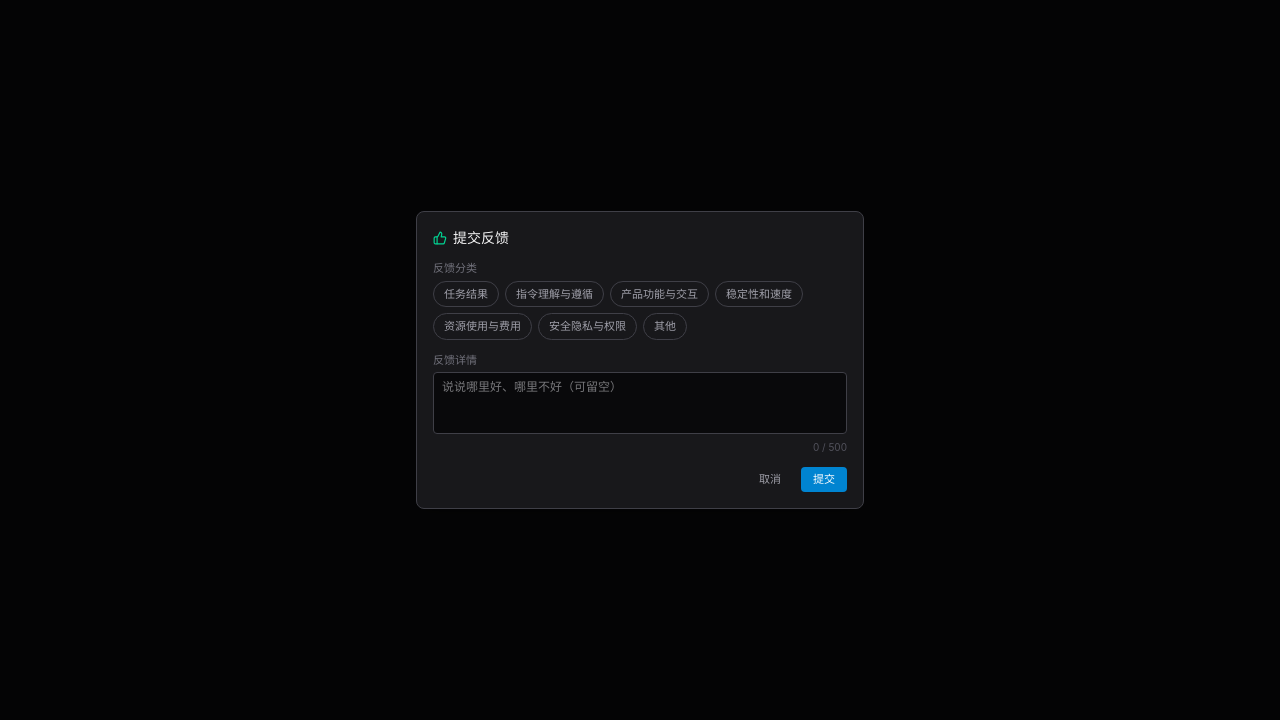
Test: MessageFeedbackDialog 提交 › 主进程说"说明太长"时映射成 noteTooLong 文案
This screenshot has width=1280, height=720.
Click the button "提交" at x=824, y=480, box x1=801 y1=467 x2=847 y2=492
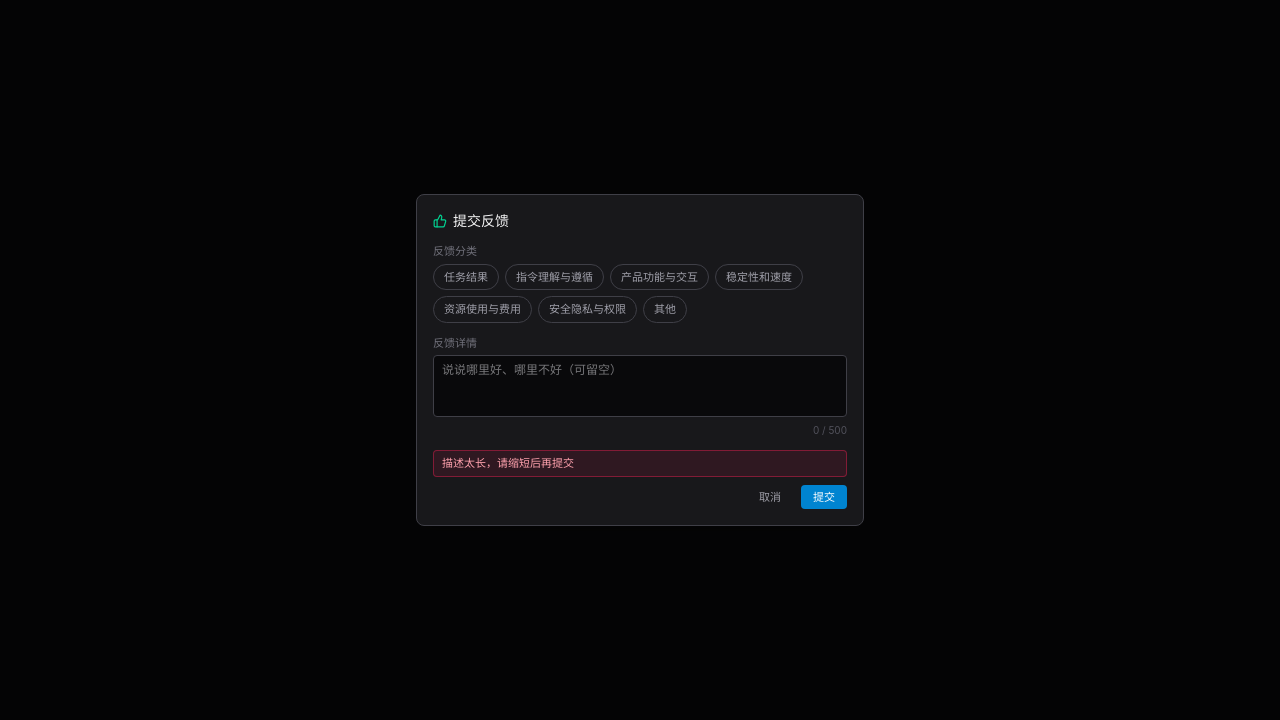
expect the message reads "描述太长，请缩短后再提交": met, box x1=442 y1=456 x2=574 y2=470
